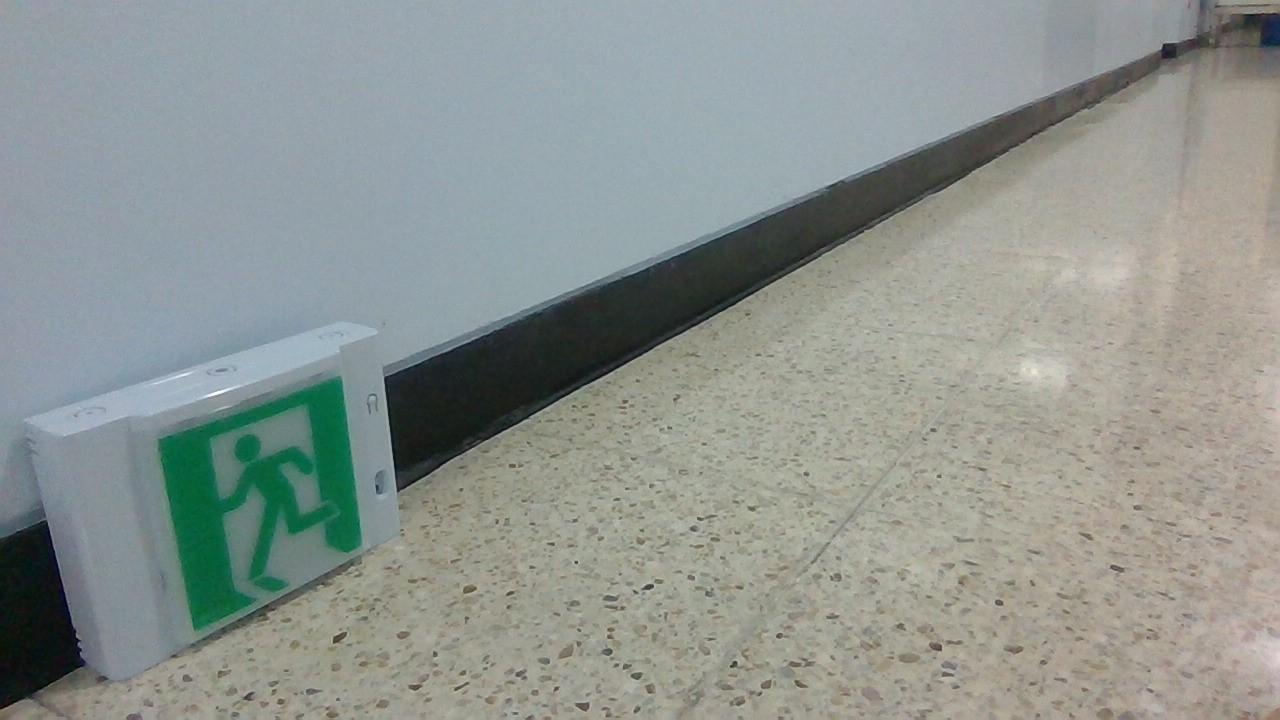emergency_exit: (22, 319, 404, 682), (154, 371, 367, 635)
